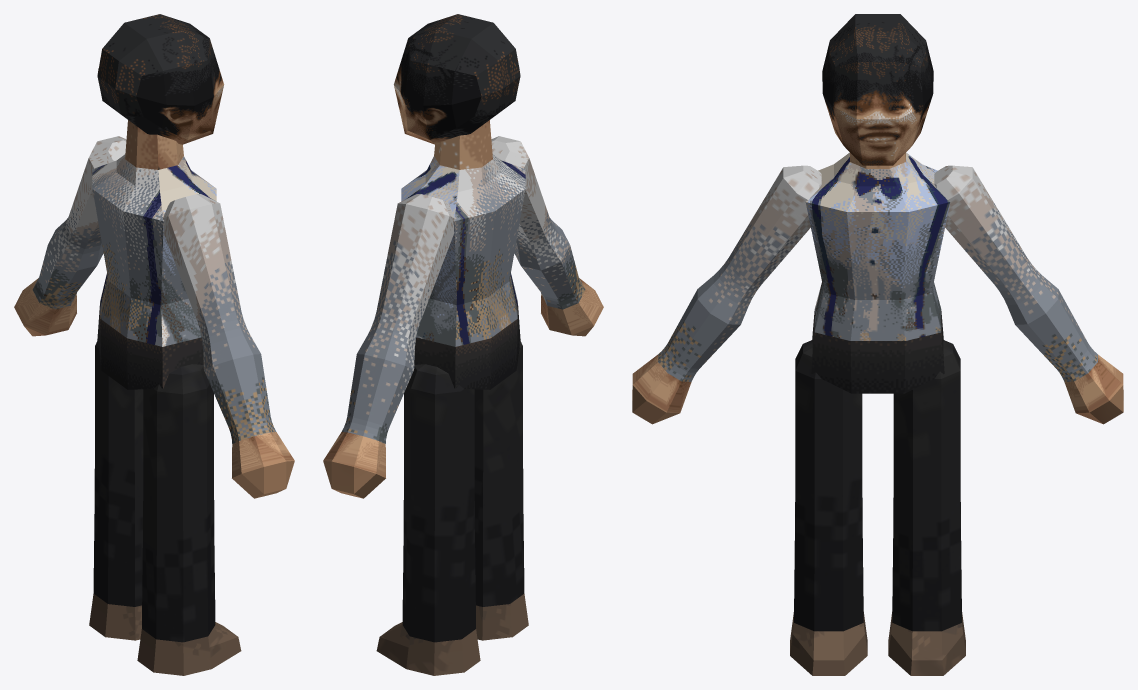
File: SM_Waiter.fbx
3 views of the same model, side by side, from view 1: azimuth 30°, elevation 25°; view 2: azimuth 150°, elevation 25°; view 3: azimuth 270°, elevation 25° (orthographic).
Parts seen in each view (by area): view 1: Cube.005; view 2: Cube.005; view 3: Cube.005.
Boxes of the visible parts, left/top/right/bottom form: Cube.005: left=14, top=14, right=294, bottom=675; Cube.005: left=323, top=14, right=603, bottom=675; Cube.005: left=632, top=14, right=1123, bottom=675.
Size of the model in its own units: 35.15 by 192 by 137.
